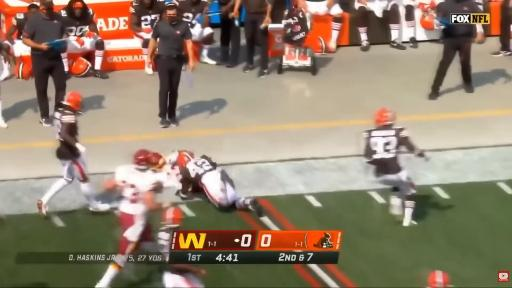Helmet: (70, 57, 91, 77), (162, 207, 183, 227), (133, 149, 153, 169), (62, 91, 82, 111), (375, 108, 395, 126), (428, 271, 450, 287), (15, 61, 32, 79), (419, 13, 436, 30), (176, 151, 194, 167), (151, 152, 166, 171)
Jersey: (363, 125, 415, 175), (115, 165, 158, 214), (54, 108, 79, 159), (130, 0, 165, 29), (60, 8, 94, 36), (182, 155, 217, 182), (179, 0, 208, 26), (158, 226, 173, 262), (13, 13, 27, 39)
Player: (96, 150, 169, 287), (38, 92, 110, 214), (364, 108, 425, 226), (176, 153, 262, 217), (61, 0, 108, 78), (355, 0, 406, 51), (130, 0, 165, 74), (178, 0, 216, 64), (298, 0, 343, 52), (3, 4, 39, 57), (158, 207, 182, 261), (163, 265, 205, 287), (417, 0, 444, 28), (403, 0, 417, 48), (427, 271, 452, 287), (0, 92, 7, 127)
